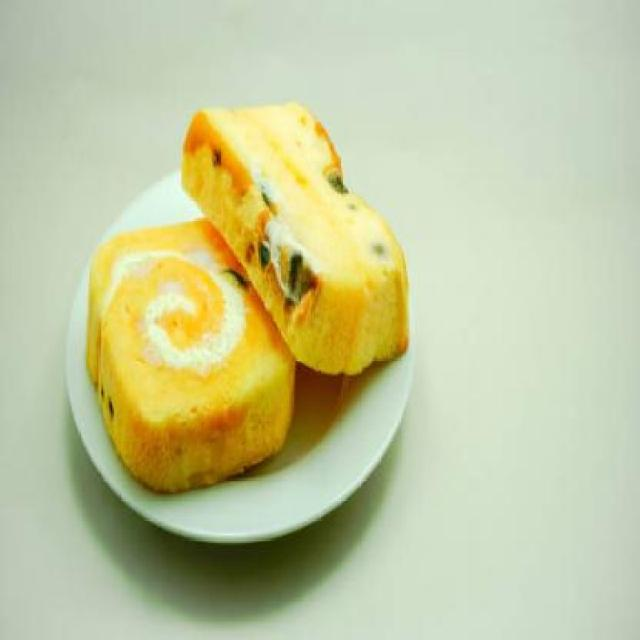mold_bread: (250, 229, 321, 309), (216, 259, 253, 293), (253, 170, 280, 211), (94, 379, 117, 422), (325, 161, 351, 198), (367, 234, 386, 265), (208, 144, 226, 165)
